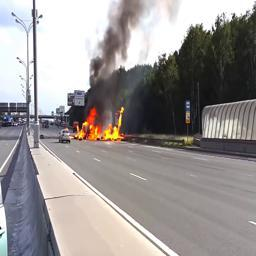fire: (73, 107, 125, 140)
